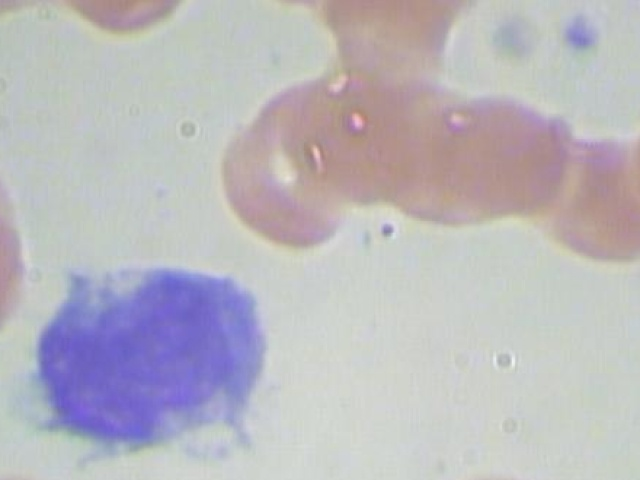Platelets: (556, 1, 610, 56)
RBC: (401, 70, 577, 226), (188, 101, 363, 257), (243, 54, 418, 210), (464, 104, 639, 260), (335, 78, 510, 233), (519, 116, 640, 271), (308, 0, 483, 75), (48, 0, 223, 36), (199, 0, 374, 36), (0, 146, 31, 339), (404, 462, 581, 480), (620, 80, 640, 236), (631, 271, 640, 426)
WBC: (16, 253, 281, 470)
